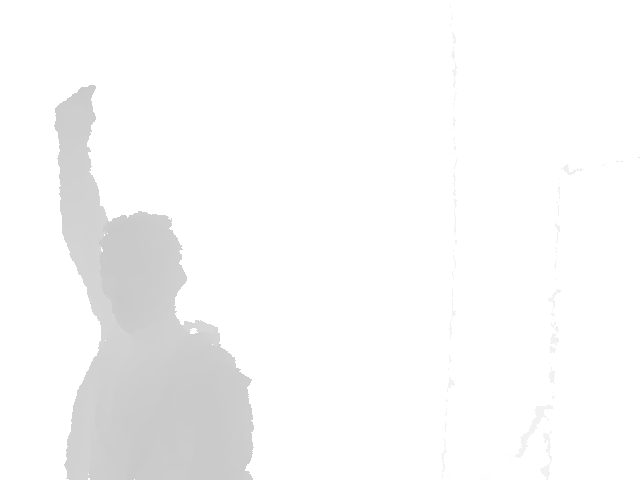hand: (53, 83, 97, 143)
head: (97, 210, 188, 333)
person: (53, 83, 255, 480)
